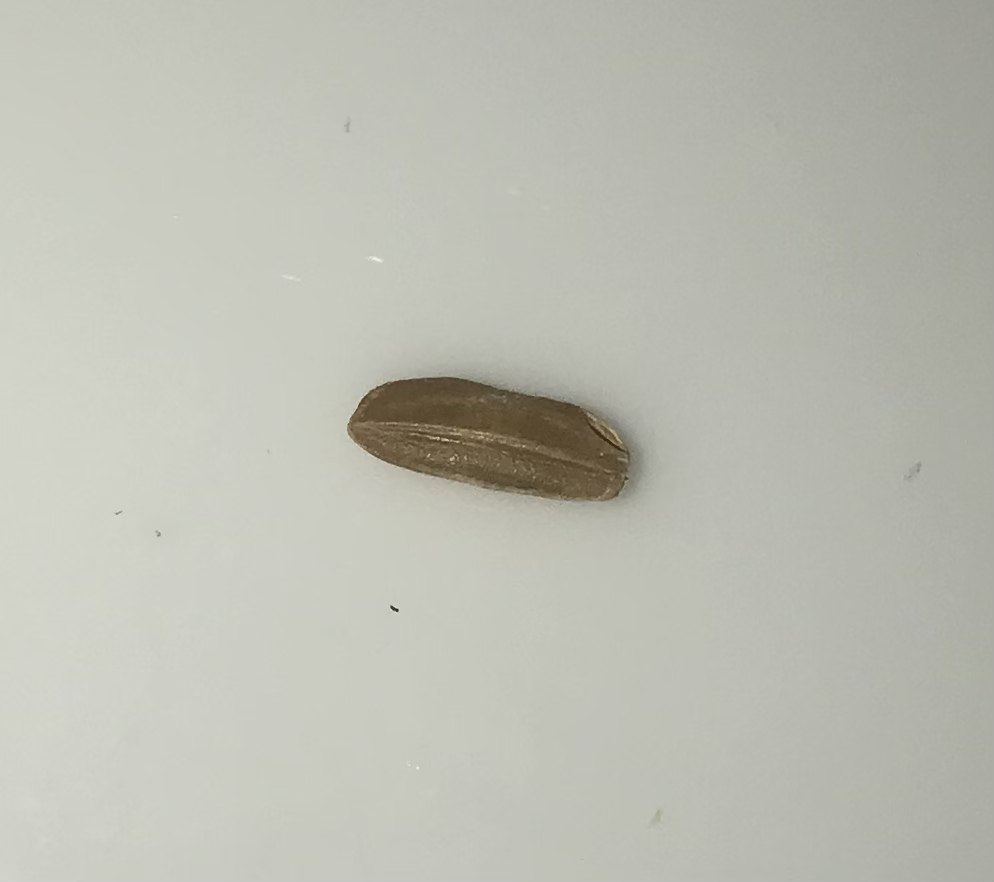Gao Lut Dien Bien: (349, 372, 642, 523)
